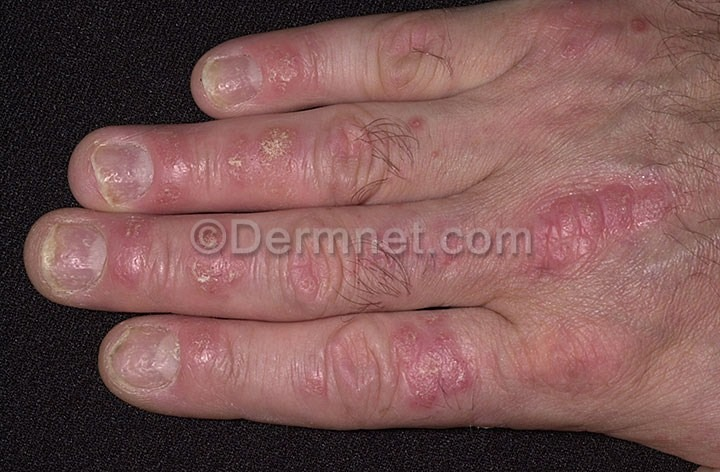Psoriasis: (391, 314, 481, 411), (25, 214, 119, 299), (88, 322, 189, 400), (562, 172, 673, 241), (547, 3, 664, 65), (215, 123, 303, 183), (79, 135, 155, 204), (143, 132, 199, 208), (108, 224, 166, 296), (189, 230, 249, 296), (398, 109, 455, 169), (254, 44, 315, 99)
